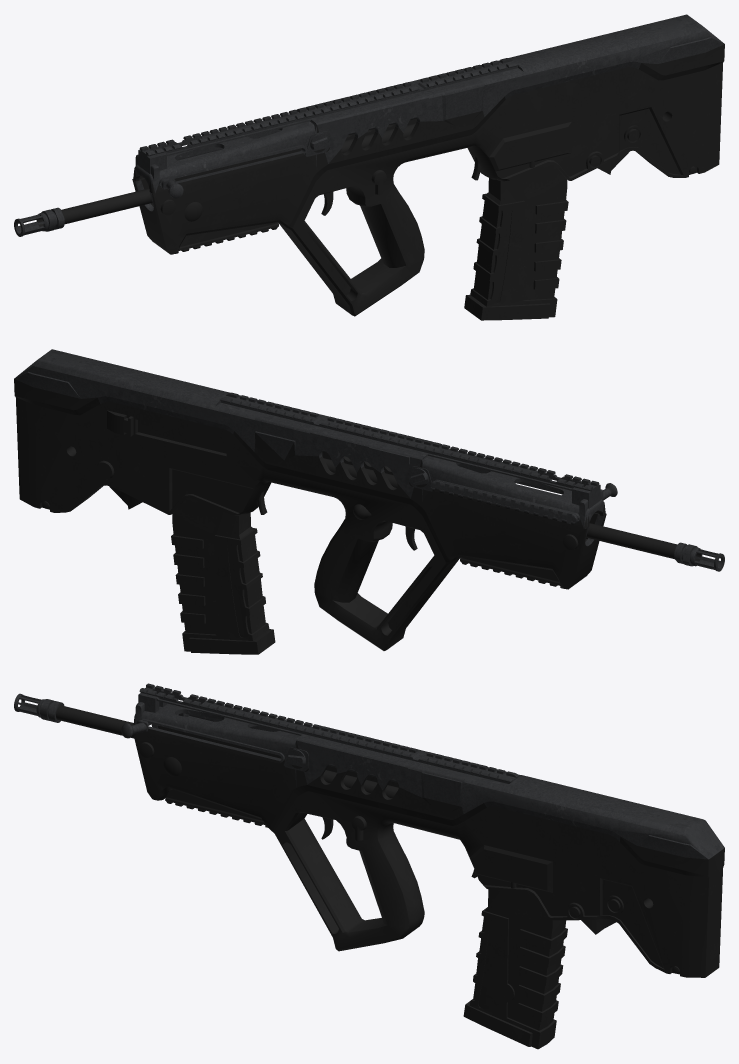
Rendered from tar21.glb.
The picture shows the model from 3 angles, top to bottom: view 1: azimuth 30°, elevation 25°; view 2: azimuth 150°, elevation 25°; view 3: azimuth 330°, elevation 25°; orthographic projection.
Parts seen in each view (by area): view 1: tar21; view 2: tar21; view 3: tar21.
Part boxes in pixels (x1,y1,x2,y2): tar21: (14,14,724,320); tar21: (14,349,724,654); tar21: (14,683,724,1049).
Size of the model in its own units: 0.72 by 0.255 by 0.0733.
2 materials, 2 textured.
